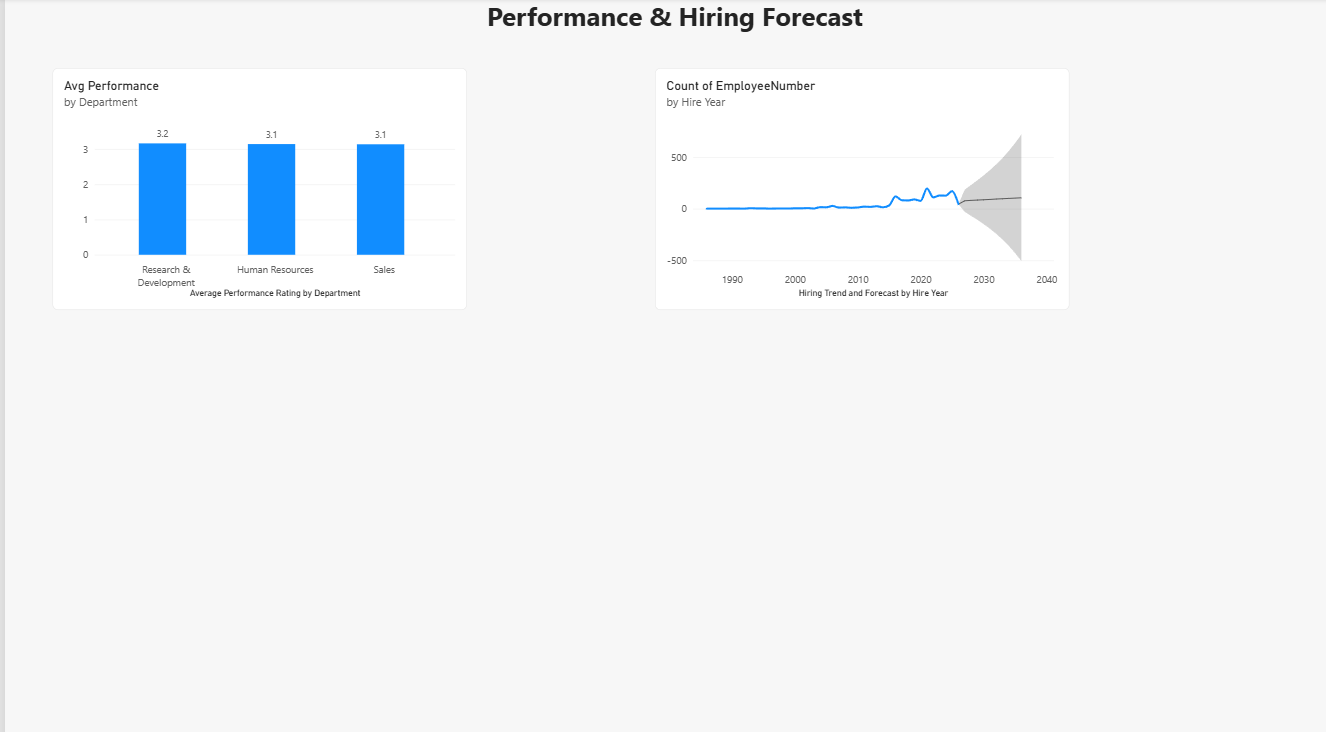

This screenshot's page, from the dashboard's own definition file:
{"tool":"powerbi","page":{"name":"Page 2","canvas":[1920,1080],"ordinal":1},"visuals":[{"type":"clusteredColumnChart","title":"Average Performance Rating by Department","fields":{"Category":["HR.Department"],"Y":["HR.Avg Performance"]},"box":[67.9,100.9,600,350],"z":0},{"type":"lineChart","title":"Hiring Trend and Forecast by Hire Year","fields":{"Category":["HR.Hire Year"],"Y":["CountNonNull(HR.EmployeeNumber)"]},"box":[877.7,101.3,600,350],"z":1000},{"type":"textbox","box":[100,100,300,300],"z":2001},{"type":"textbox","box":[100,100,300,300],"z":2002}]}

Visuals, with their boxes in screenshot pixels (x1, y1, x2, y2), scaled from the page's 1920x1080 canvas onto the 1326x732 screenshot:
"Average Performance Rating by Department" clusteredColumnChart: bbox(47, 68, 461, 306)
"Hiring Trend and Forecast by Hire Year" lineChart: bbox(606, 69, 1021, 306)
textbox: bbox(69, 68, 276, 271)
textbox: bbox(69, 68, 276, 271)
